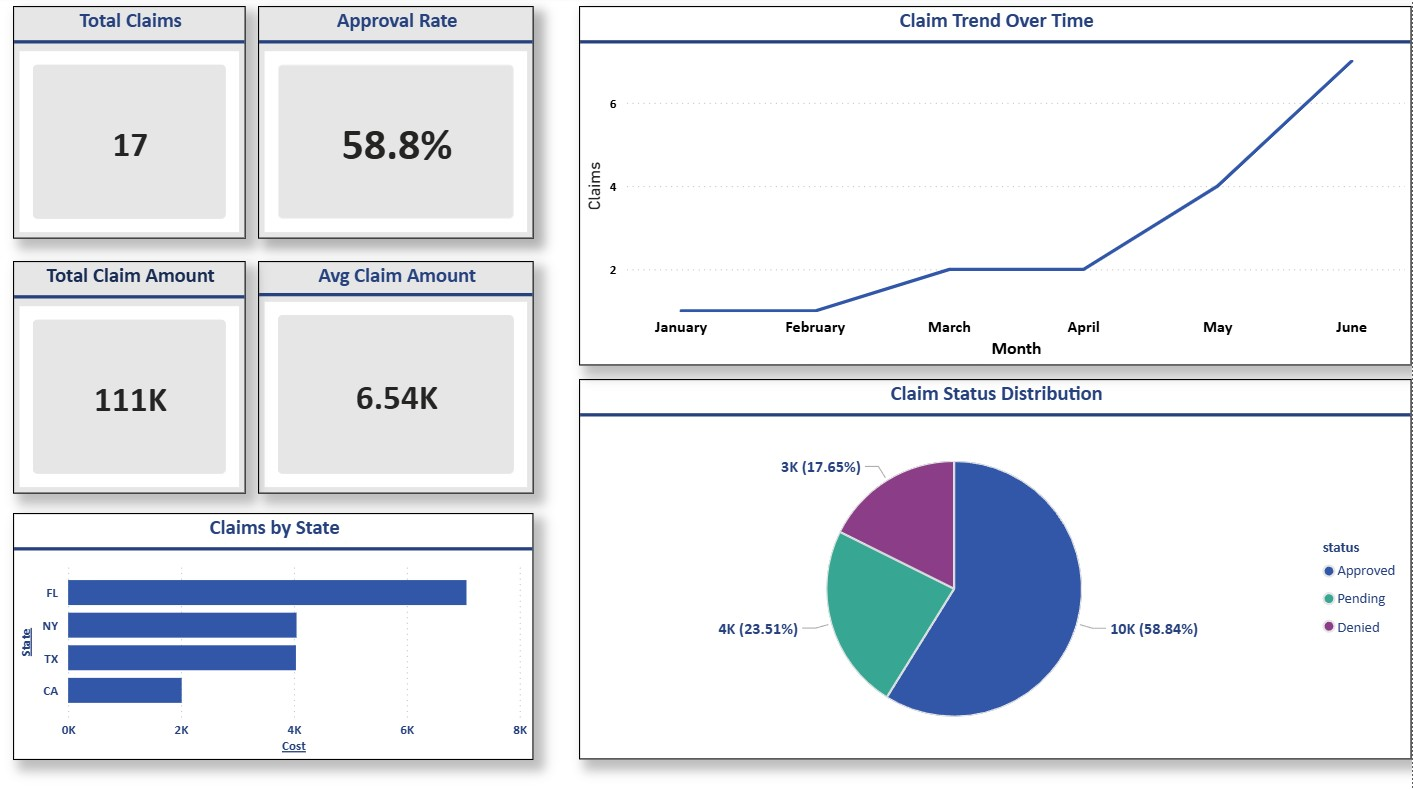

The dashboard page shown, as its layout file describes it:
{"tool":"powerbi","page":{"name":"EXECUTIVE DASHBOARD","canvas":[1280,720],"ordinal":0},"visuals":[{"type":"cardVisual","title":"Total Claims","fields":{"Data":["CountNonNull(claims.claim_id)"]},"box":[11.8,9.1,211.3,211.3],"z":0},{"type":"cardVisual","title":"Avg Claim Amount","fields":{"Data":["Avg(claims.claim_amount)"]},"box":[234,240.3,250.3,211.3],"z":1000},{"type":"cardVisual","title":"Total Claim Amount","fields":{"Data":["Sum(claims.claim_amount)"]},"box":[11.8,240.3,211.3,211.3],"z":2000},{"type":"cardVisual","title":"Approval Rate","fields":{"Data":["claims.ApprovalRate"]},"box":[234,9.1,250.3,211.3],"z":3000},{"type":"pieChart","title":"Claim Status Distribution","fields":{"Category":["claims.status"],"Y":["Sum(claims.claim_id)"]},"box":[525,347.3,755.4,345.5],"z":4000},{"type":"barChart","title":"Claims by State","fields":{"Category":["customers.state"],"Y":["Sum(claims.claim_id)"]},"box":[11.8,468.8,472.4,224],"z":5000},{"type":"lineChart","title":"Claim Trend Over Time","fields":{"Y":["CountNonNull(claims.claim_id)"],"Category":["claims.claim_date.Variation.Date Hierarchy.Year","claims.claim_date.Variation.Date Hierarchy.Quarter","claims.claim_date.Variation.Date Hierarchy.Month","claims.claim_date.Variation.Date Hierarchy.Day"]},"box":[525,9.1,755.4,325.5],"z":6000}]}

Visuals, with their boxes in screenshot pixels (x1, y1, x2, y2), scaled from the page's 1280x720 canvas onto the 1413x789 screenshot:
"Total Claims" cardVisual: box(13, 10, 246, 242)
"Avg Claim Amount" cardVisual: box(258, 263, 535, 495)
"Total Claim Amount" cardVisual: box(13, 263, 246, 495)
"Approval Rate" cardVisual: box(258, 10, 535, 242)
"Claim Status Distribution" pieChart: box(580, 381, 1412, 759)
"Claims by State" barChart: box(13, 514, 535, 759)
"Claim Trend Over Time" lineChart: box(580, 10, 1412, 367)
